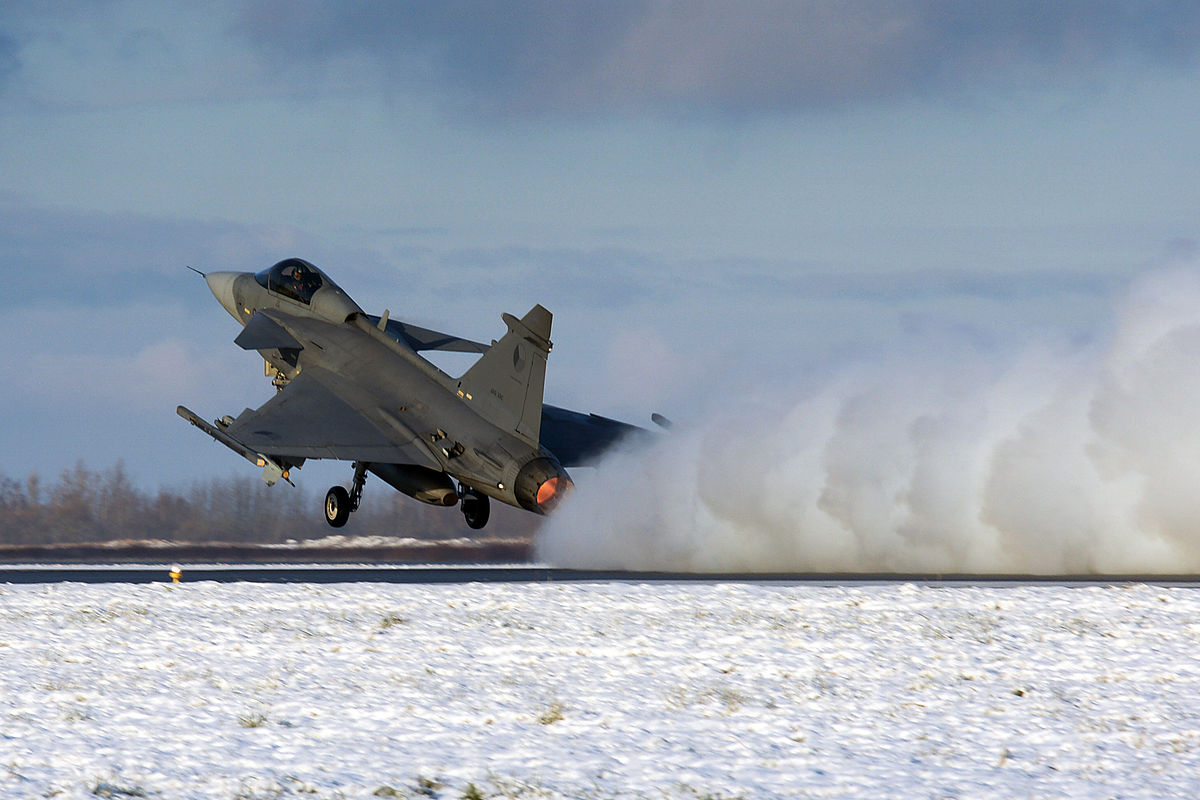JAS39: (176, 257, 681, 530)
